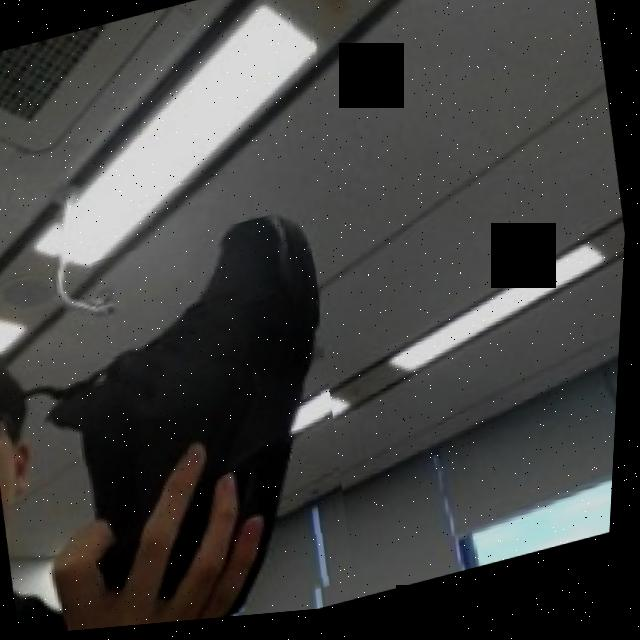shoe: (29, 206, 377, 636)
